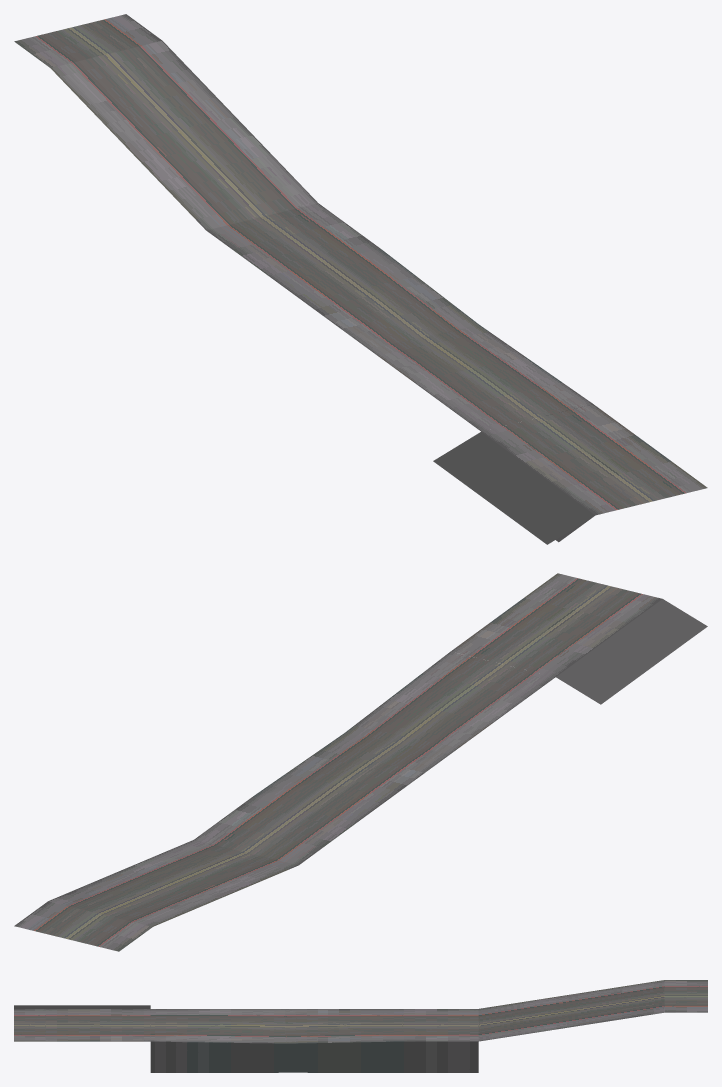
Rendered from lodd23_sfe.obj.
The picture shows the model from 3 angles, top to bottom: view 1: azimuth 30°, elevation 25°; view 2: azimuth 150°, elevation 25°; view 3: azimuth 270°, elevation 25°; orthographic projection. The views are drawn at different scales.
Parts seen in each view (by area): view 1: LODd23_sfe; view 2: LODd23_sfe; view 3: LODd23_sfe.
Boxes of the visible parts, x1,y1,x2,y2 form: LODd23_sfe: (14,14,707,544); LODd23_sfe: (14,573,707,951); LODd23_sfe: (14,980,707,1072).
Size of the model in its own units: 35.78 by 21.42 by 224.
Materials: 1 (1 with a texture image).
